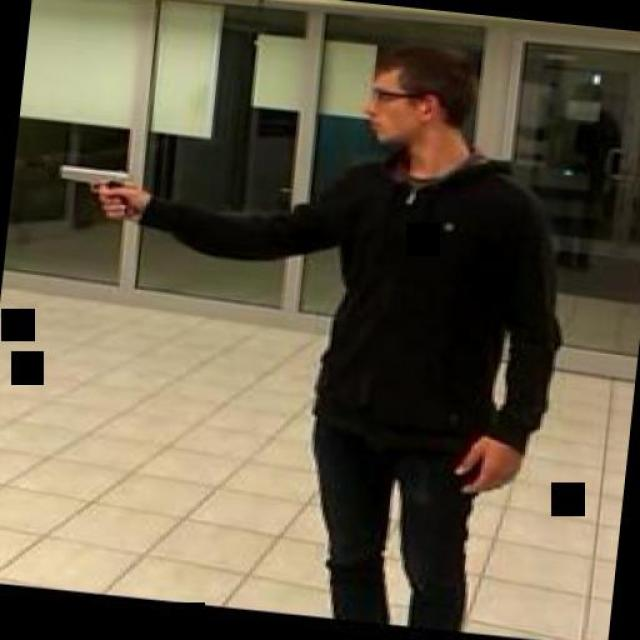gun: (46, 156, 145, 222)
